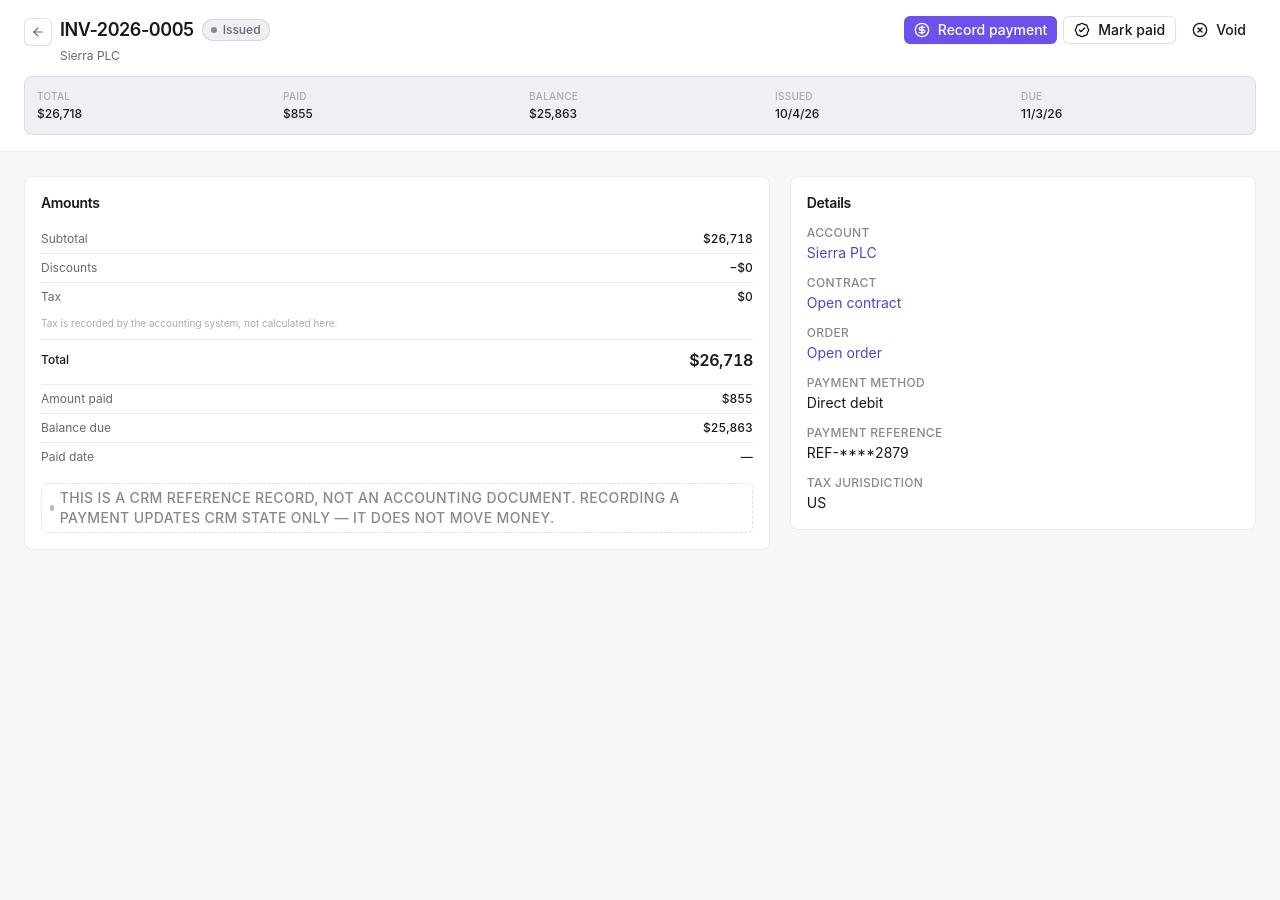
Test case: InvoiceDetail settlement writes › records a partial payment without settling the invoice
The image size is (1280, 900).
Click the button "Record payment": [981, 30] box 904,16 -> 1057,44
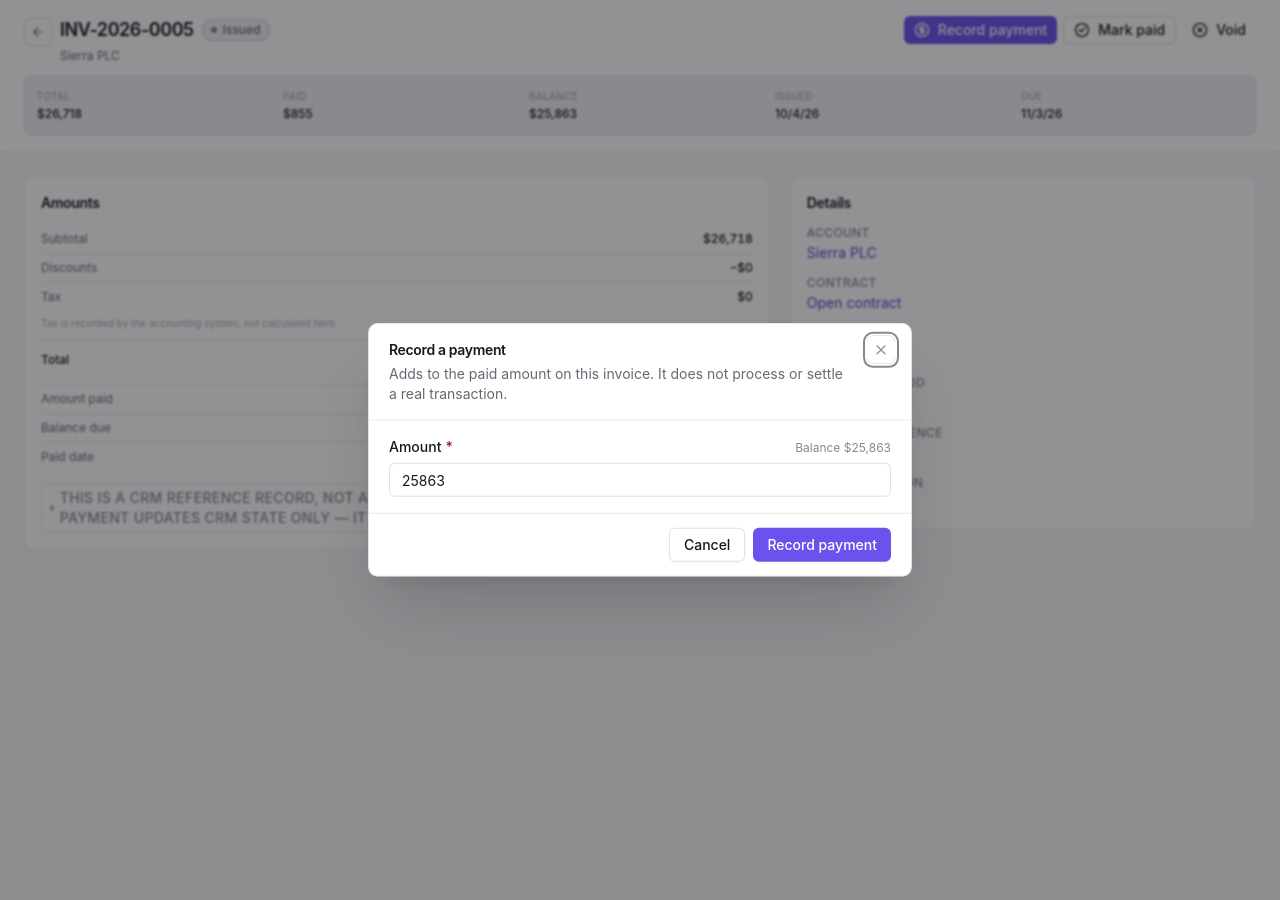
Replace the text in the field labelled "Amount *" with "1": [640, 480] box 389,463 -> 891,497
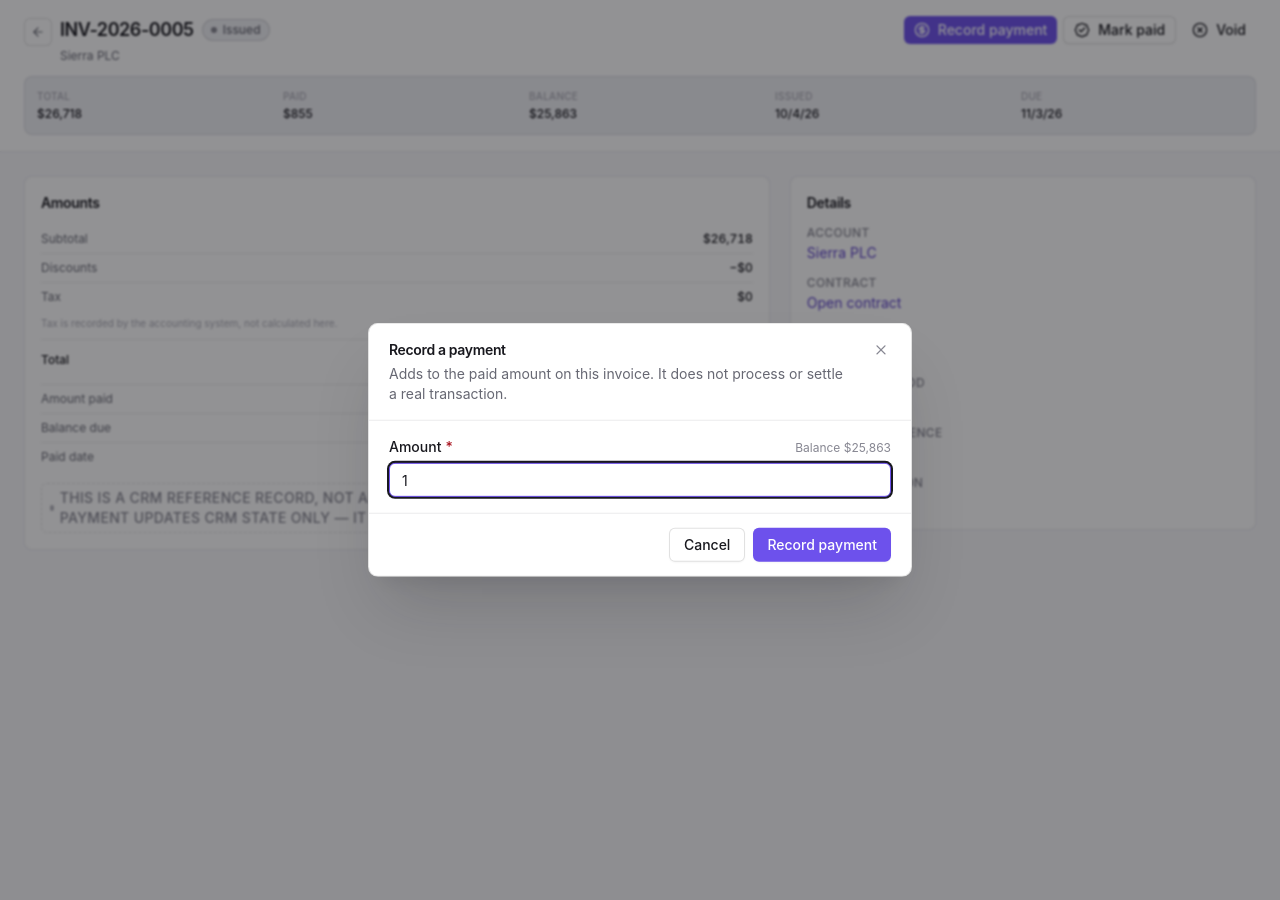
Click the button "Record payment": [822, 545] box 753,528 -> 891,562
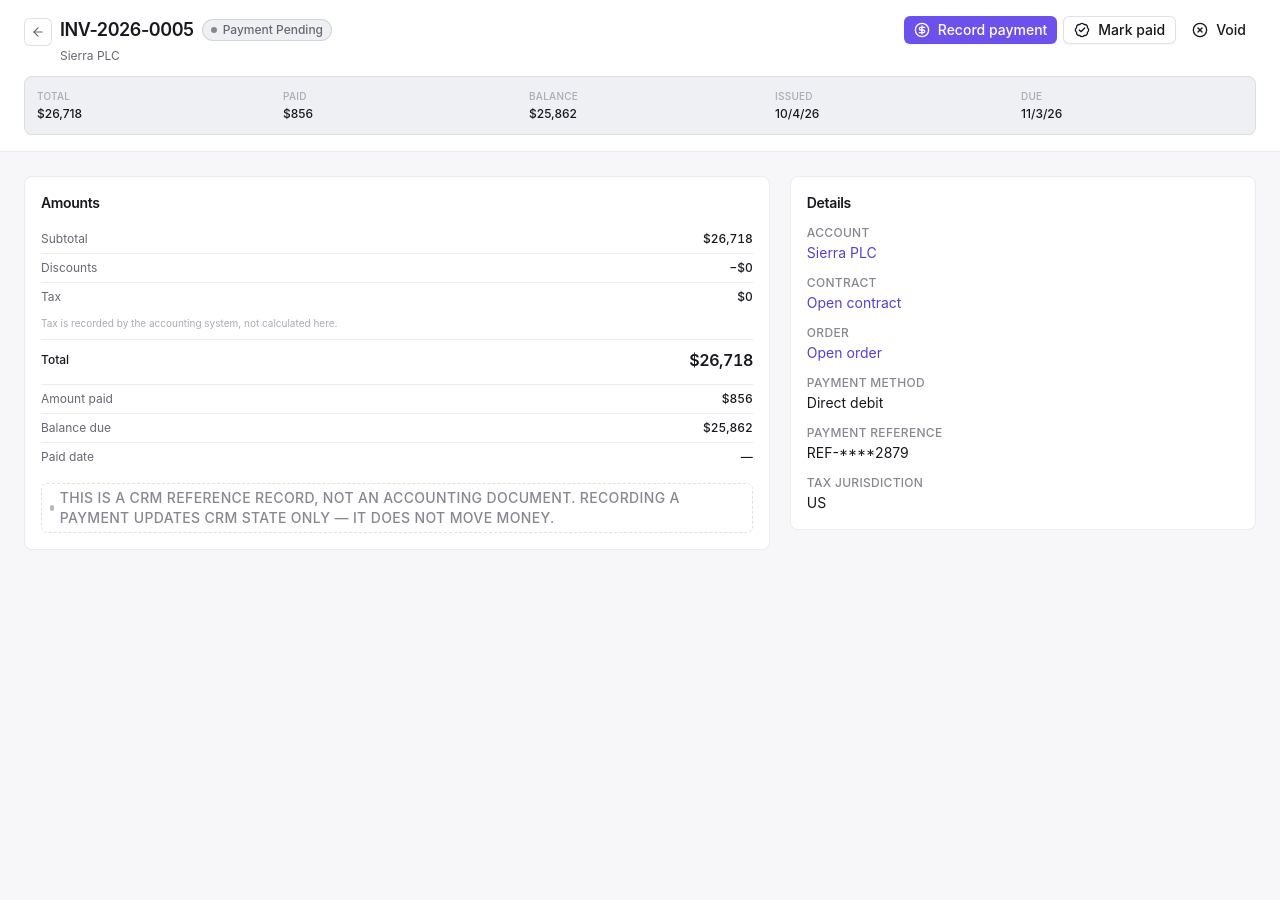
Expected: the dialog is gone
